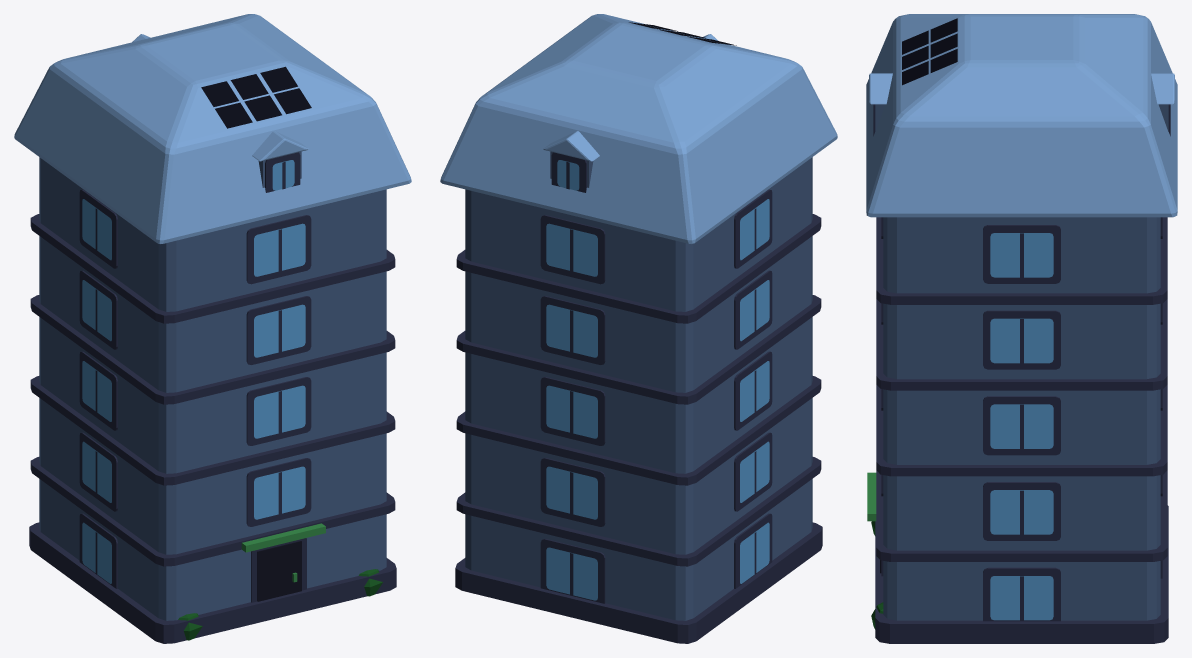
File: house-1x1-5f-mansard-b-solar.glb
3 views of the same model, side by side, from view 1: azimuth 30°, elevation 25°; view 2: azimuth 150°, elevation 25°; view 3: azimuth 270°, elevation 25° (orthographic). The views are drawn at different scales.
Parts seen in each view (by area): view 1: house-1x1-5f-mansard-b-solar; view 2: house-1x1-5f-mansard-b-solar; view 3: house-1x1-5f-mansard-b-solar.
Part boxes in pixels (left/top/right/bottom): house-1x1-5f-mansard-b-solar: left=14, top=14, right=411, bottom=643; house-1x1-5f-mansard-b-solar: left=440, top=14, right=837, bottom=643; house-1x1-5f-mansard-b-solar: left=866, top=14, right=1177, bottom=643.
Size of the model in its own units: 0.9876 by 1.9 by 0.9876.
Materials: 1 (1 with a texture image).
